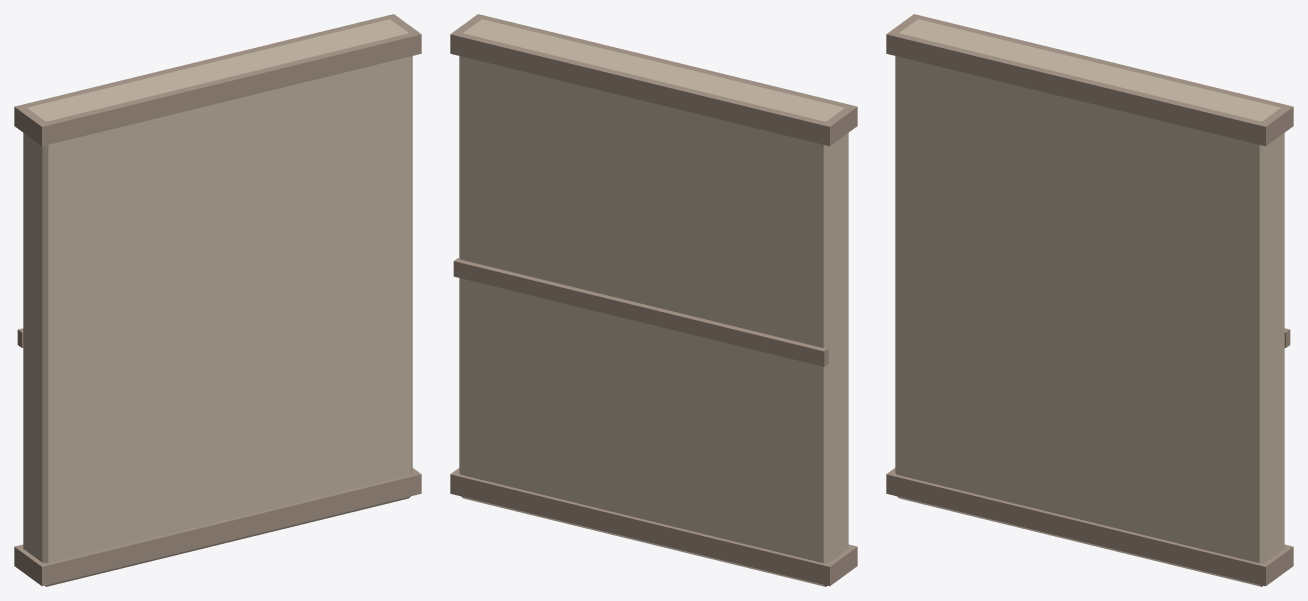
Rendered from wall_wood_01.glb.
3 renders of one model, left to right at view 1: azimuth 30°, elevation 25°; view 2: azimuth 150°, elevation 25°; view 3: azimuth 330°, elevation 25°, orthographic.
Visible parts, largest first — view 1: wall_wood_01; view 2: wall_wood_01; view 3: wall_wood_01.
Boxes of the visible parts, x1,y1,x2,y2 form: wall_wood_01: (14,14,421,586); wall_wood_01: (450,14,857,586); wall_wood_01: (886,14,1293,586).
Size of the model in its own units: 2.05 by 2.4 by 0.27.
